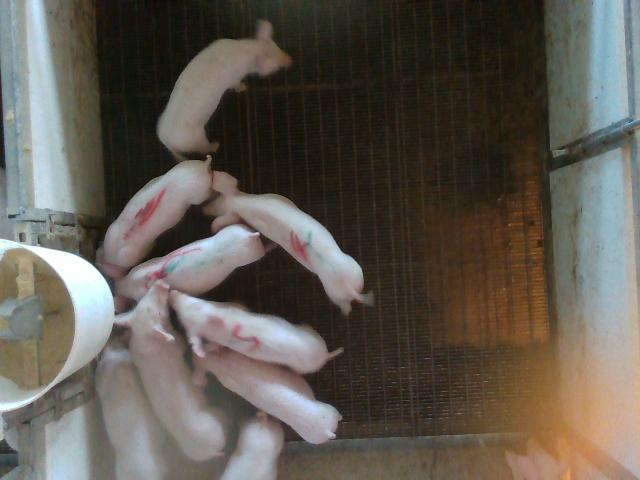pig-1: (98, 155, 212, 281)
pig-4: (204, 171, 372, 314)
pig-5: (170, 290, 342, 374)
